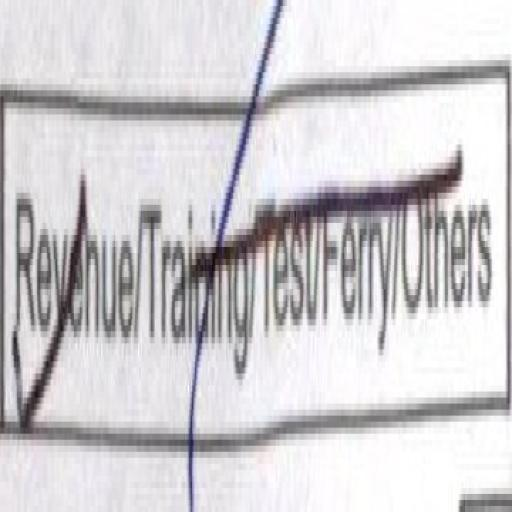check: (7, 102, 133, 512)
